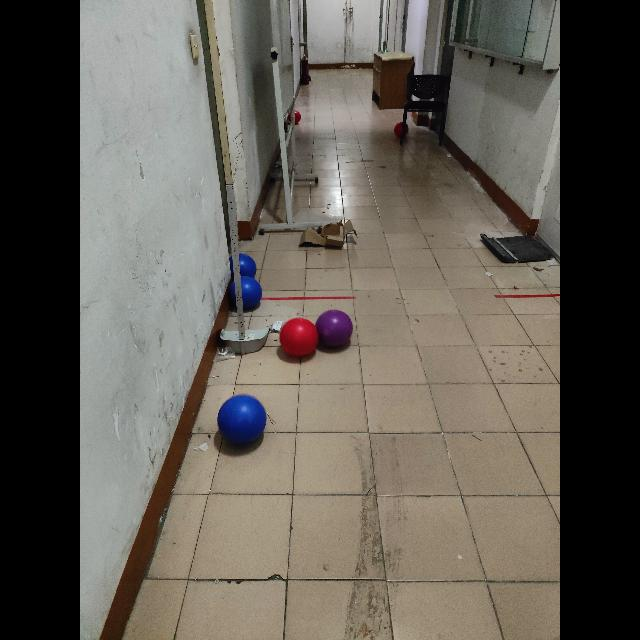B: (217, 392, 269, 448), (228, 276, 264, 310), (225, 254, 257, 282)
P: (316, 308, 354, 348)
R: (278, 317, 318, 359)
